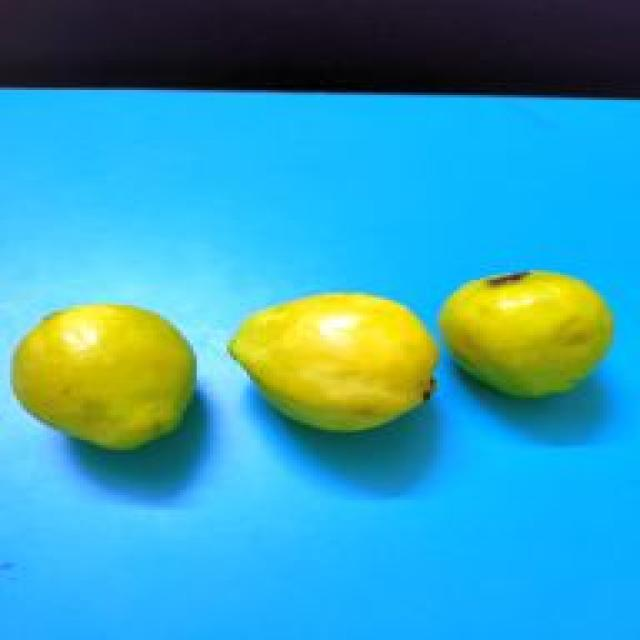Good_Guava: (227, 292, 440, 435), (10, 305, 197, 455), (440, 270, 617, 402)
